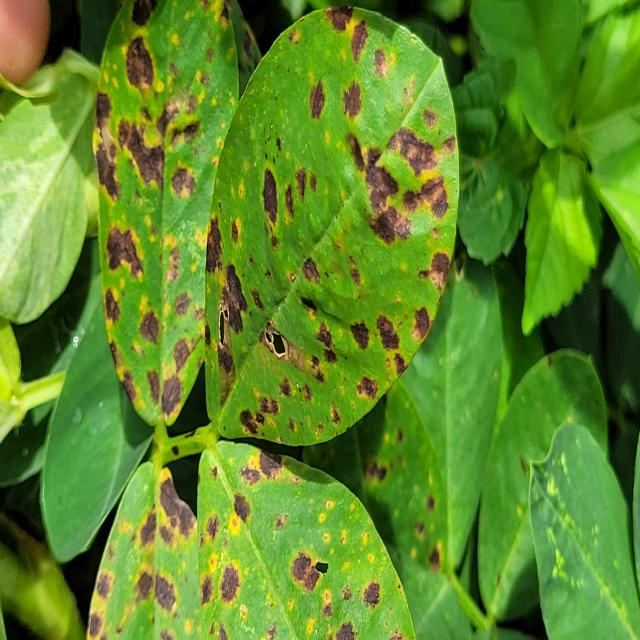Ground nut_tikka leaf spot: (205, 0, 461, 449), (97, 0, 240, 430), (196, 443, 417, 640), (86, 456, 202, 635)
